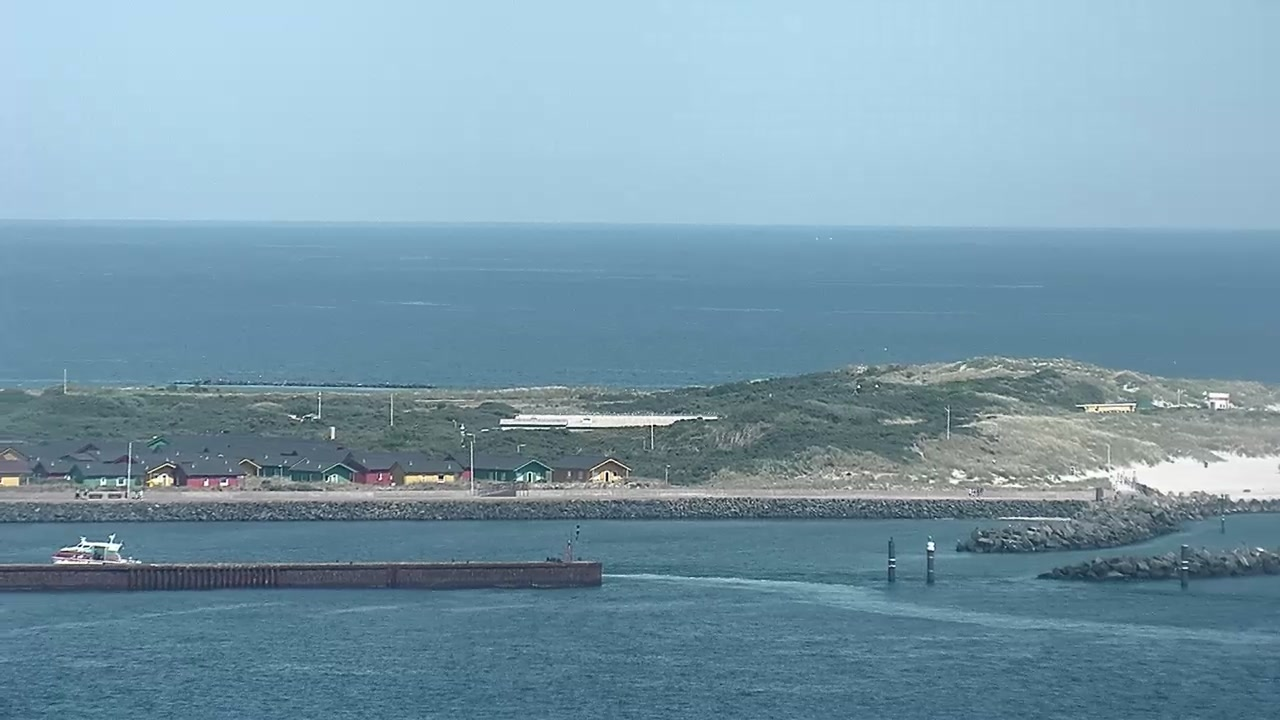human: (1201, 459, 1209, 468), (968, 487, 972, 496), (971, 487, 975, 496), (976, 486, 980, 495)
sea: (49, 532, 143, 563)
